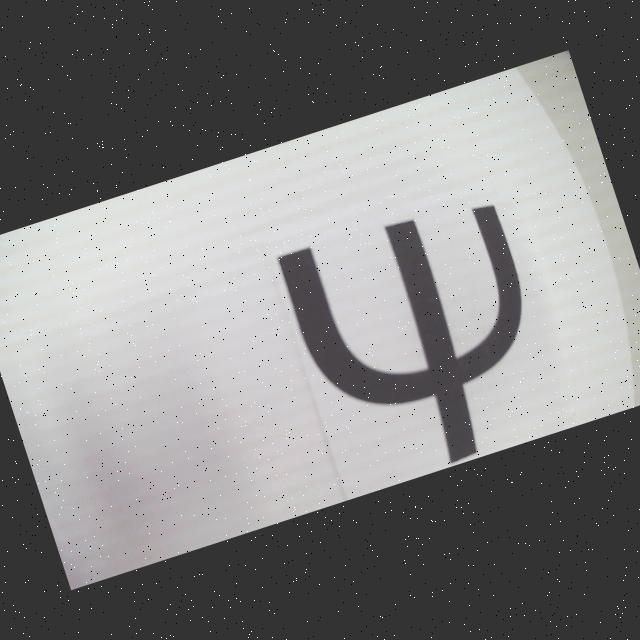PSI: (276, 187, 568, 496)
